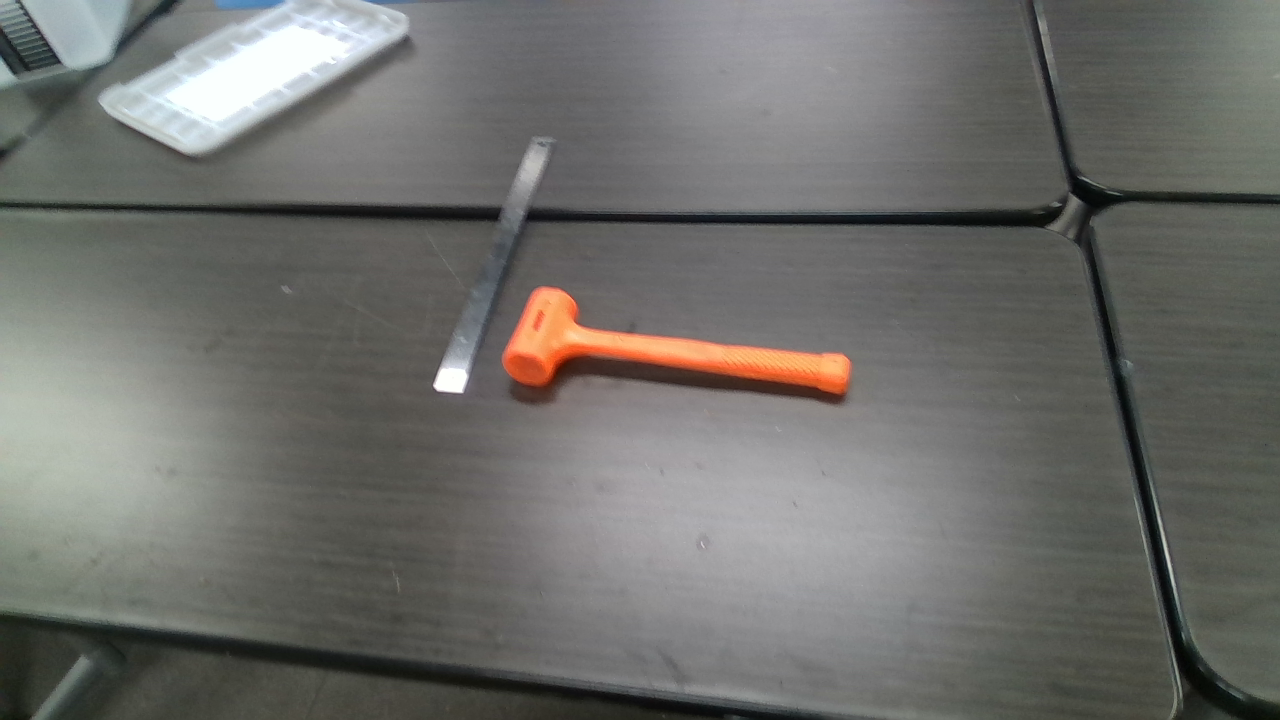Orange Hammer: (504, 288, 849, 397)
